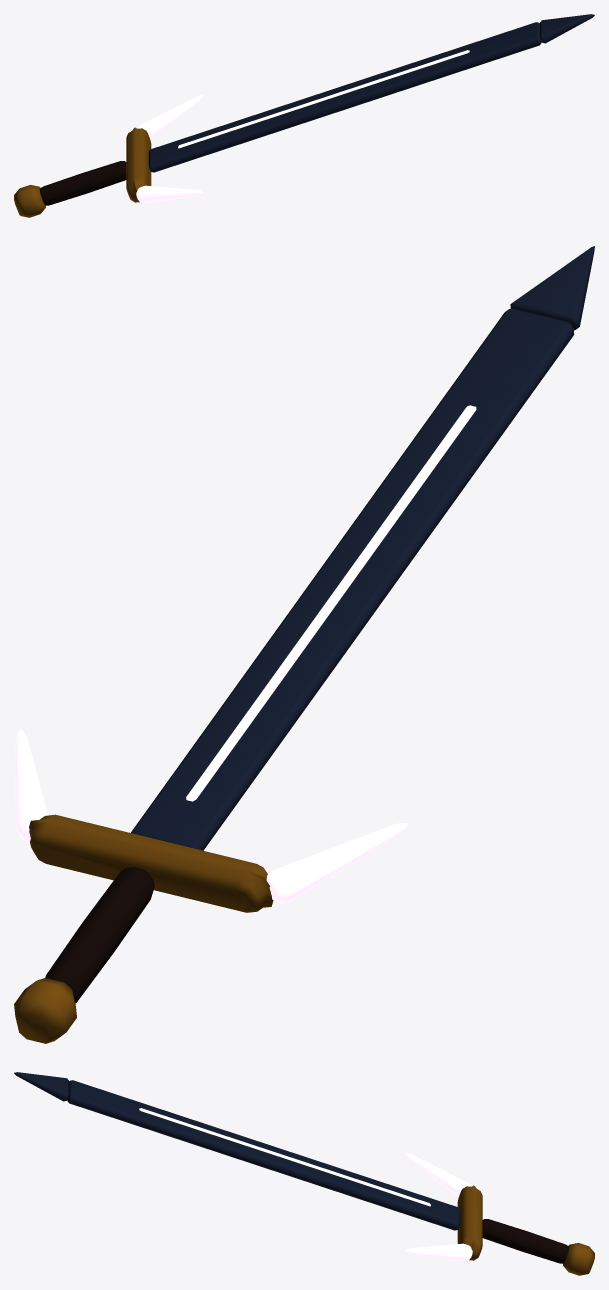
Rendered from Arma_SabreCrepusculo.fbx.
3 views of the same model, one above another, from view 1: azimuth 90°, elevation 25°; view 2: azimuth 150°, elevation 25°; view 3: azimuth 270°, elevation 25° (orthographic). The views are drawn at different scales.
Parts seen in each view (by area): view 1: Piece; view 2: Piece; view 3: Piece.
Part boxes in pixels (box(x1,y1,x2,y2)): Piece: box(14, 14, 594, 217); Piece: box(14, 246, 594, 1043); Piece: box(14, 1072, 594, 1275).
Size of the model in its own units: 0.3987 by 0.3841 by 1.
